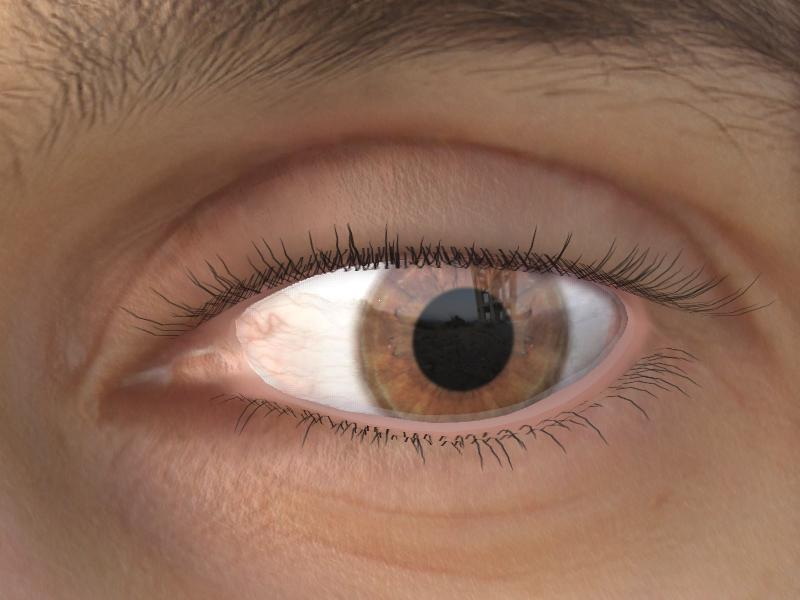eye: (365, 260, 564, 423)
